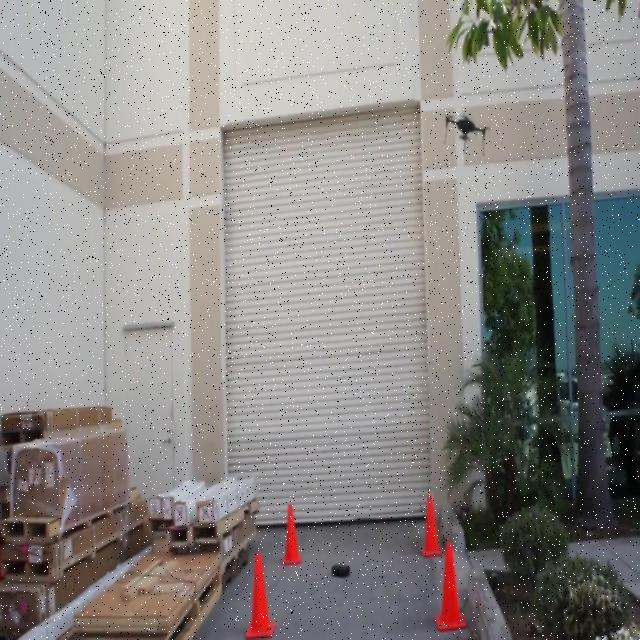UAV: (444, 114, 492, 156)
